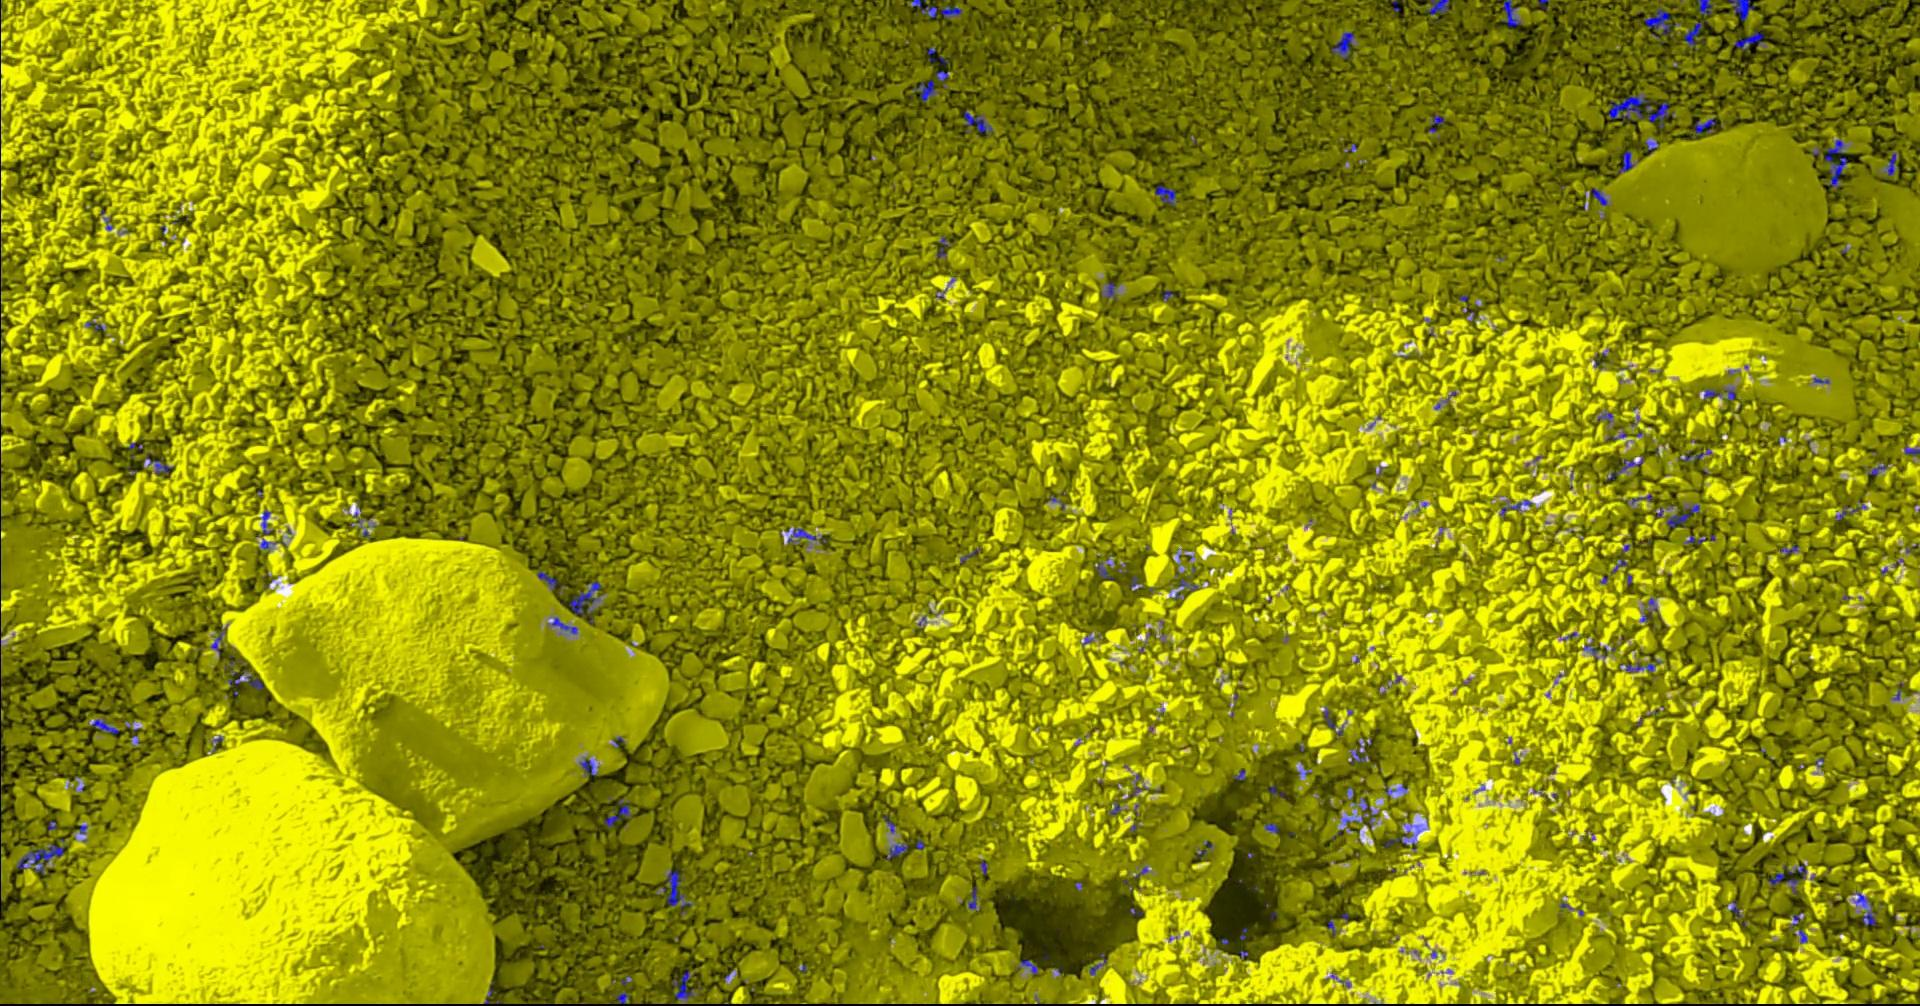ant: (1608, 94, 1672, 128), (15, 837, 63, 874), (223, 654, 263, 688), (662, 868, 691, 913), (912, 70, 949, 102), (569, 580, 601, 616), (1823, 138, 1846, 187), (1608, 455, 1643, 481), (1644, 6, 1675, 37), (910, 0, 963, 18), (1851, 890, 1877, 925), (670, 970, 701, 998), (963, 108, 993, 135), (1666, 503, 1699, 527), (1683, 20, 1709, 50), (604, 798, 631, 827), (786, 527, 825, 544), (1331, 30, 1354, 58), (1785, 864, 1806, 894), (536, 572, 564, 593), (1733, 30, 1763, 51), (1498, 499, 1531, 517), (1425, 0, 1451, 22), (1727, 0, 1754, 20), (145, 453, 173, 473), (1501, 0, 1521, 25), (1835, 503, 1865, 520), (1383, 829, 1410, 847), (210, 627, 225, 658), (1349, 741, 1369, 763), (1154, 185, 1177, 205), (91, 718, 119, 733), (1625, 659, 1662, 671), (551, 616, 577, 633), (1694, 117, 1716, 135), (926, 47, 949, 64), (1617, 150, 1633, 173), (1090, 951, 1106, 974), (1683, 448, 1710, 461), (885, 843, 908, 859), (1095, 561, 1114, 579), (1017, 958, 1037, 974), (579, 758, 598, 775), (1591, 187, 1608, 205), (1429, 113, 1444, 132), (1178, 575, 1197, 591), (936, 235, 949, 257), (1685, 533, 1714, 542), (1322, 708, 1335, 728), (1884, 152, 1895, 175), (612, 991, 629, 1005), (1103, 281, 1116, 298), (1697, 0, 1710, 15), (1703, 387, 1721, 399), (262, 511, 270, 533), (968, 887, 977, 909), (1768, 873, 1784, 884)
